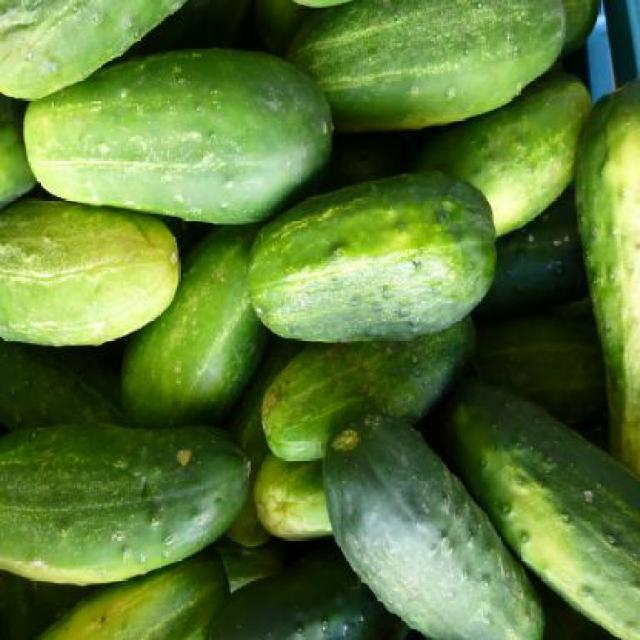Zucchini: (0, 0, 638, 638), (245, 0, 594, 172)
